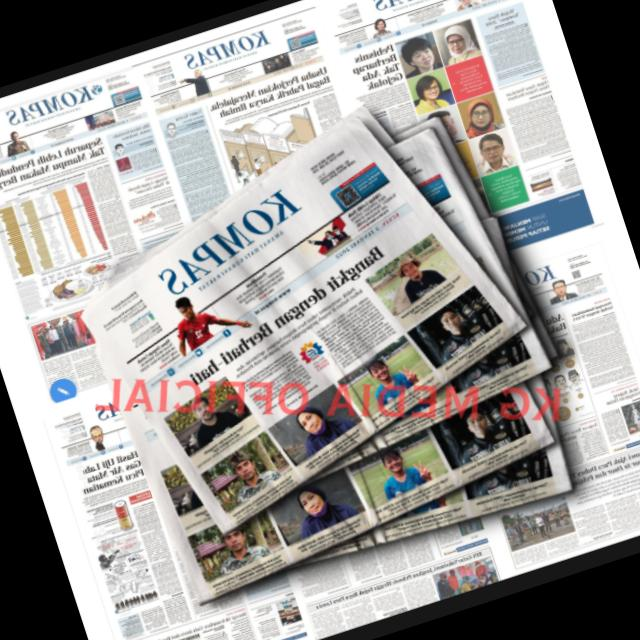Koran: (35, 72, 593, 620)
